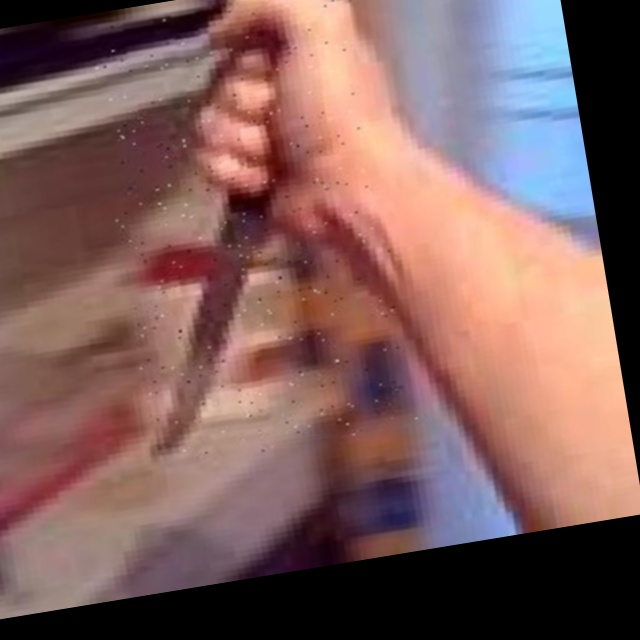Sharp-Object: (85, 0, 418, 469)
